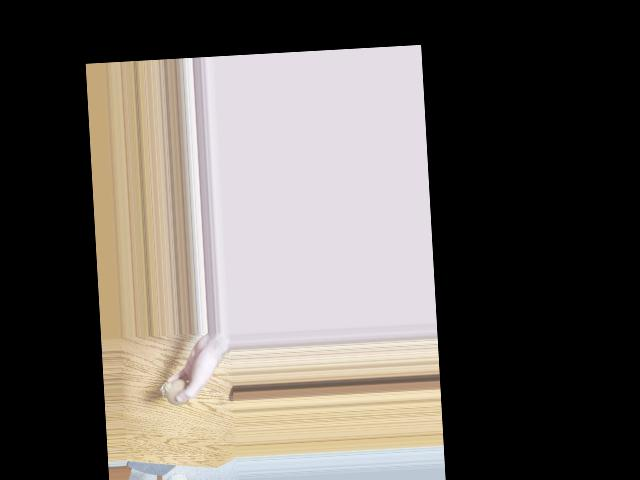onion: (167, 382, 189, 404)
